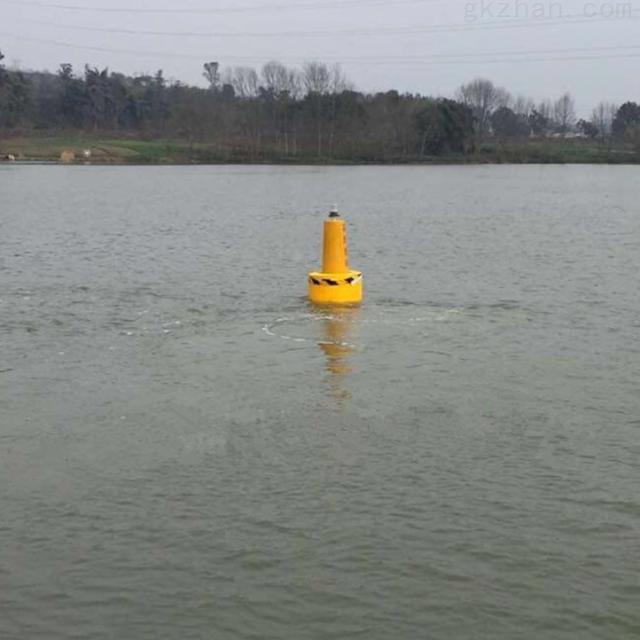buoy: (303, 203, 366, 301)
